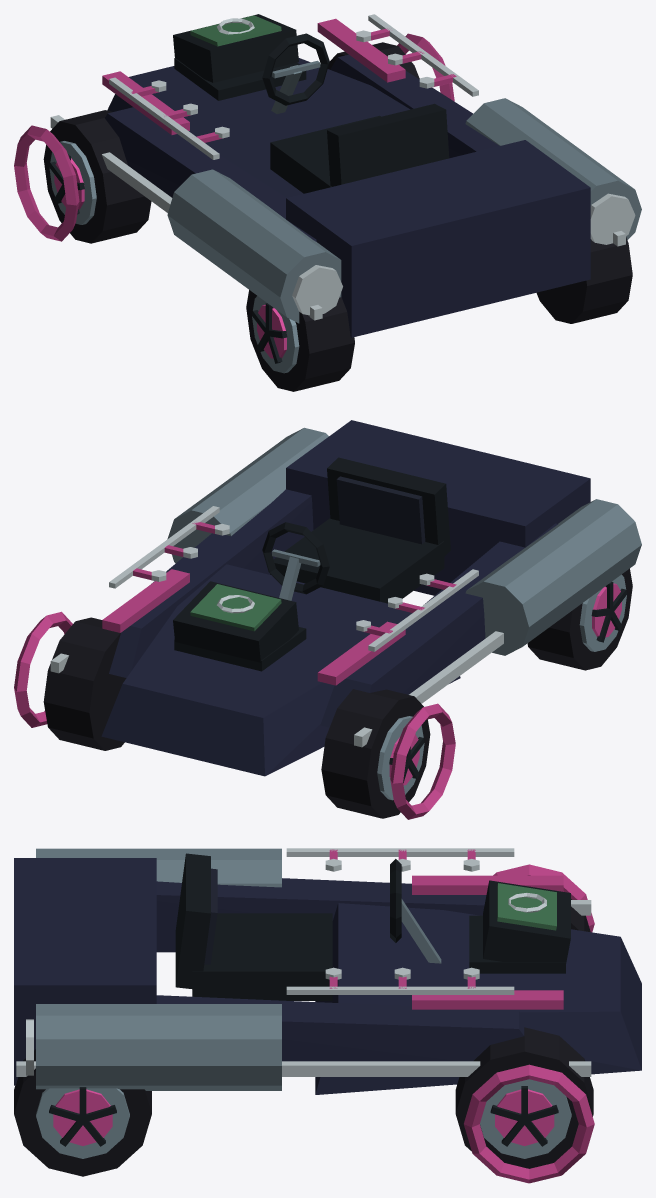
Rendered from kart.glb.
3 renders of one model, top to bottom at view 1: azimuth 30°, elevation 25°; view 2: azimuth 150°, elevation 25°; view 3: azimuth 270°, elevation 25°, orthographic. The views are drawn at different scales.
Visible parts, largest first — view 1: identity-lab-pod-lab-pod-segmented-shell, identity-lab-pod-driver-cockpit, wheel-front-left, wheel-rear-left, identity-lab-pod-motif-scanner, identity-lab-pod-motif-neon, wheel-rear-right, identity-lab-pod-motif-circuit, wheel-front-right; view 2: identity-lab-pod-lab-pod-segmented-shell, identity-lab-pod-driver-cockpit, wheel-front-left, wheel-front-right, identity-lab-pod-motif-neon, identity-lab-pod-motif-scanner, wheel-rear-left, identity-lab-pod-motif-circuit; view 3: identity-lab-pod-lab-pod-segmented-shell, identity-lab-pod-driver-cockpit, wheel-front-right, wheel-rear-right, identity-lab-pod-motif-neon, identity-lab-pod-motif-scanner, identity-lab-pod-motif-circuit.
Boxes of the visible parts, x1,y1,x2,y2 form: identity-lab-pod-lab-pod-segmented-shell: (102, 18, 641, 337); identity-lab-pod-driver-cockpit: (262, 33, 449, 193); wheel-front-left: (43, 110, 151, 243); wheel-rear-left: (246, 290, 354, 391); identity-lab-pod-motif-scanner: (173, 14, 298, 82); identity-lab-pod-motif-neon: (14, 33, 625, 320); wheel-rear-right: (536, 237, 632, 323); identity-lab-pod-motif-circuit: (109, 14, 478, 159); wheel-front-right: (327, 42, 419, 79); identity-lab-pod-lab-pod-segmented-shell: (101, 420, 641, 776); identity-lab-pod-driver-cockpit: (262, 457, 450, 603); wheel-front-left: (321, 689, 430, 818); wheel-front-right: (43, 617, 126, 750); identity-lab-pod-motif-neon: (14, 611, 503, 819); identity-lab-pod-motif-scanner: (173, 581, 298, 662); wheel-rear-left: (527, 568, 632, 670); identity-lab-pod-motif-circuit: (109, 506, 478, 651); identity-lab-pod-lab-pod-segmented-shell: (14, 848, 641, 1094); identity-lab-pod-driver-cockpit: (175, 853, 441, 1000); wheel-front-right: (455, 1027, 593, 1168); wheel-rear-right: (14, 1049, 151, 1176); identity-lab-pod-motif-neon: (16, 864, 594, 1183); identity-lab-pod-motif-scanner: (483, 880, 570, 963); identity-lab-pod-motif-circuit: (286, 848, 514, 994).
Bounding box in the file's own units: 2.13 × 1.09 × 2.73.
